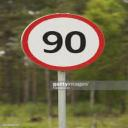speed_limit_90: (22, 12, 105, 70)
